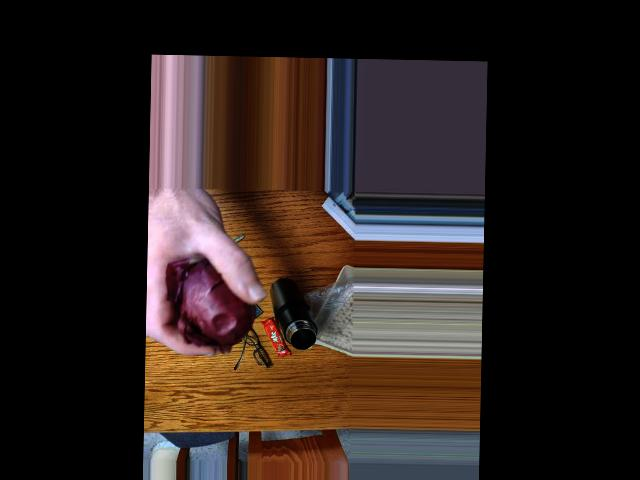onion: (174, 259, 256, 346)
